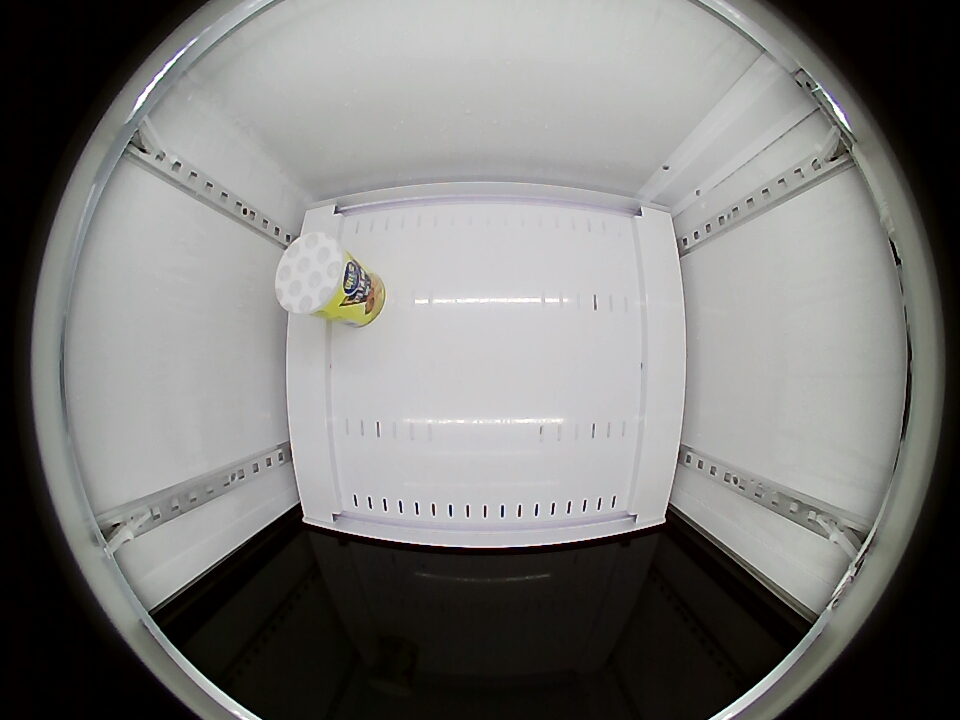kebike: (274, 229, 357, 319)
